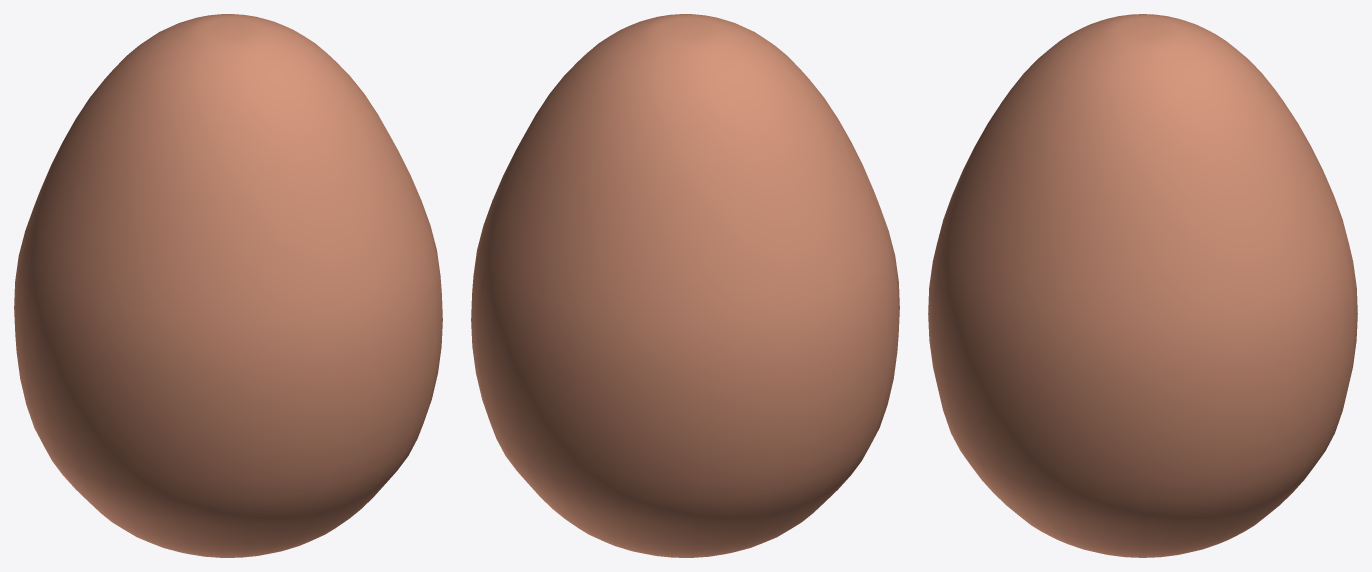
File: egg.fbx
The picture shows the model from 3 angles, left to right: view 1: azimuth 30°, elevation 25°; view 2: azimuth 150°, elevation 25°; view 3: azimuth 270°, elevation 25°; orthographic projection.
Parts seen in each view (by area): view 1: egg; view 2: egg; view 3: egg.
Part boxes in pixels (bbox=[...]): egg: bbox=[14, 14, 442, 557]; egg: bbox=[471, 14, 899, 557]; egg: bbox=[928, 14, 1357, 557].
Bounding box in the file's own units: 0.148 × 0.1942 × 0.148.
